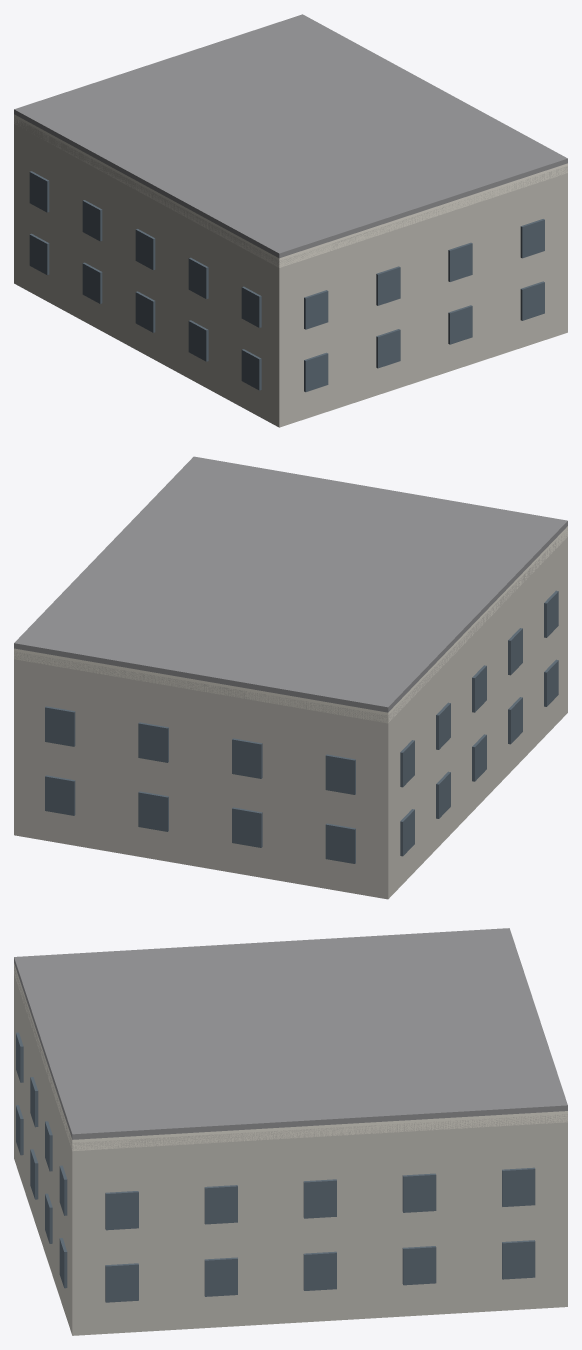
Rendered from s49_gis_248151_820780.glb.
The picture shows the model from 3 angles, top to bottom: view 1: azimuth 30°, elevation 25°; view 2: azimuth 150°, elevation 25°; view 3: azimuth 270°, elevation 25°; orthographic projection. The views are drawn at different scales.
Visible parts, largest first — view 1: mass, roofcap, cornice, win_2_1_0, win_2_1_1, win_2_1_2, win_2_0_0, win_2_0_1, win_2_0_2, win_2_0_3, win_2_1_3, win_1_0_0 (+9 smaller); view 2: mass, roofcap, cornice, win_0_0_1, win_0_1_1, win_0_0_2, win_0_0_3, win_0_1_0, win_0_1_2, win_0_1_3, win_0_0_0, win_1_0_1 (+9 smaller); view 3: roofcap, mass, cornice, win_3_1_3, win_3_0_3, win_3_0_0, win_3_0_1, win_3_0_4, win_3_1_1, win_3_1_2, win_3_1_0, win_3_0_2 (+1 smaller).
Boxes of the visible parts, x1,y1,x2,y2 form: mass: (14,118,567,427); roofcap: (14,14,567,258); cornice: (14,114,567,267); win_2_1_0: (304,290,328,329); win_2_1_1: (376,266,400,305); win_2_1_2: (448,242,472,281); win_2_0_0: (304,352,328,392); win_2_0_1: (376,329,400,368); win_2_0_2: (448,305,472,344); win_2_0_3: (520,281,544,320); win_2_1_3: (520,219,544,258); win_1_0_0: (29,233,49,274); mass: (14,530,567,899); roofcap: (14,456,567,712); cornice: (14,526,567,723); win_0_0_1: (138,791,168,831); win_0_1_1: (138,722,168,762); win_0_0_2: (232,807,262,847); win_0_0_3: (325,823,355,863); win_0_1_0: (45,706,75,746); win_0_1_2: (232,738,262,778); win_0_1_3: (325,754,355,794); win_0_0_0: (45,775,75,815); win_1_0_1: (436,771,450,818); roofcap: (14,928,567,1139); mass: (14,967,567,1335); cornice: (14,963,567,1151); win_3_1_3: (402,1173,436,1212); win_3_0_3: (402,1246,436,1285); win_3_0_0: (105,1263,138,1302); win_3_0_1: (204,1257,237,1296); win_3_0_4: (502,1240,535,1279); win_3_1_1: (204,1185,237,1224); win_3_1_2: (303,1179,336,1218); win_3_1_0: (105,1191,138,1230); win_3_0_2: (303,1251,336,1290).
Size of the model in its own units: 18.32 by 8.35 by 20.8.
